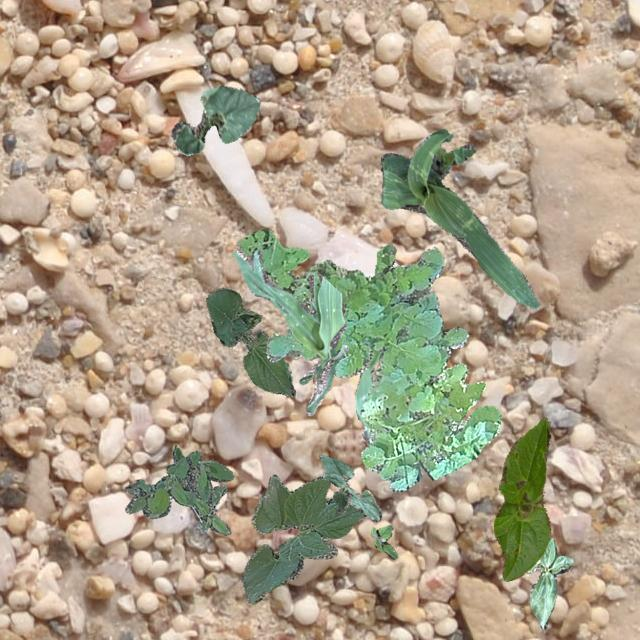crop: (379, 128, 538, 310), (232, 250, 348, 414), (240, 474, 366, 604), (204, 286, 294, 396), (492, 418, 550, 580), (170, 84, 258, 154), (526, 536, 572, 628), (318, 452, 380, 520), (354, 344, 380, 442)
weed: (237, 228, 500, 490), (124, 444, 232, 534), (369, 524, 396, 558)
